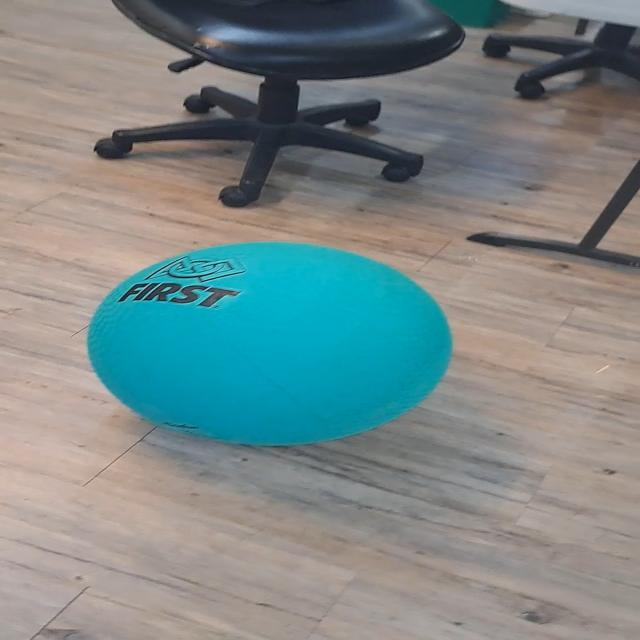ALGAE: (84, 239, 454, 447)
